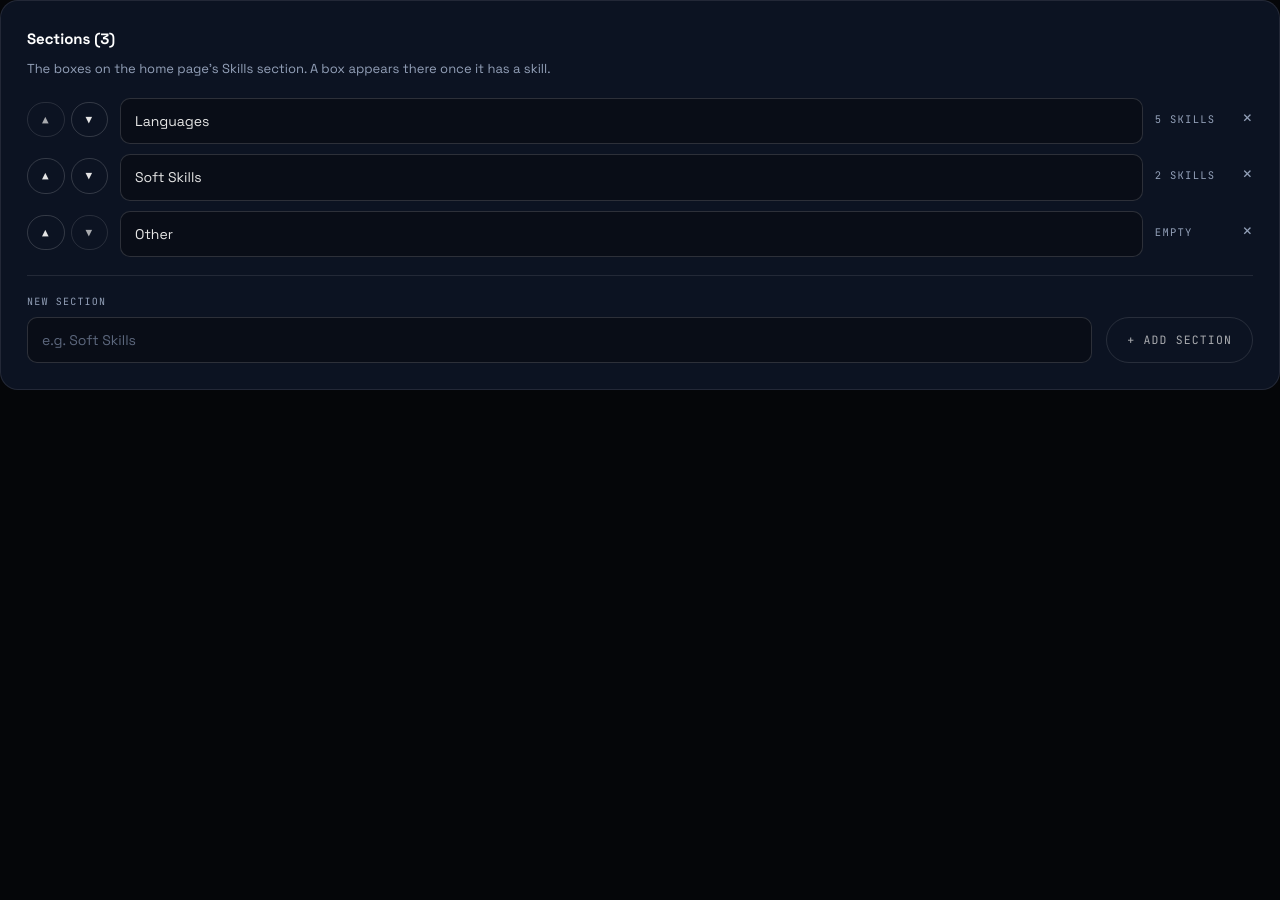
Scenario: deleting › a failed delete says so in the banner
Click the button named "Delete section Other": [1246, 231] box [1239,222,1253,240]
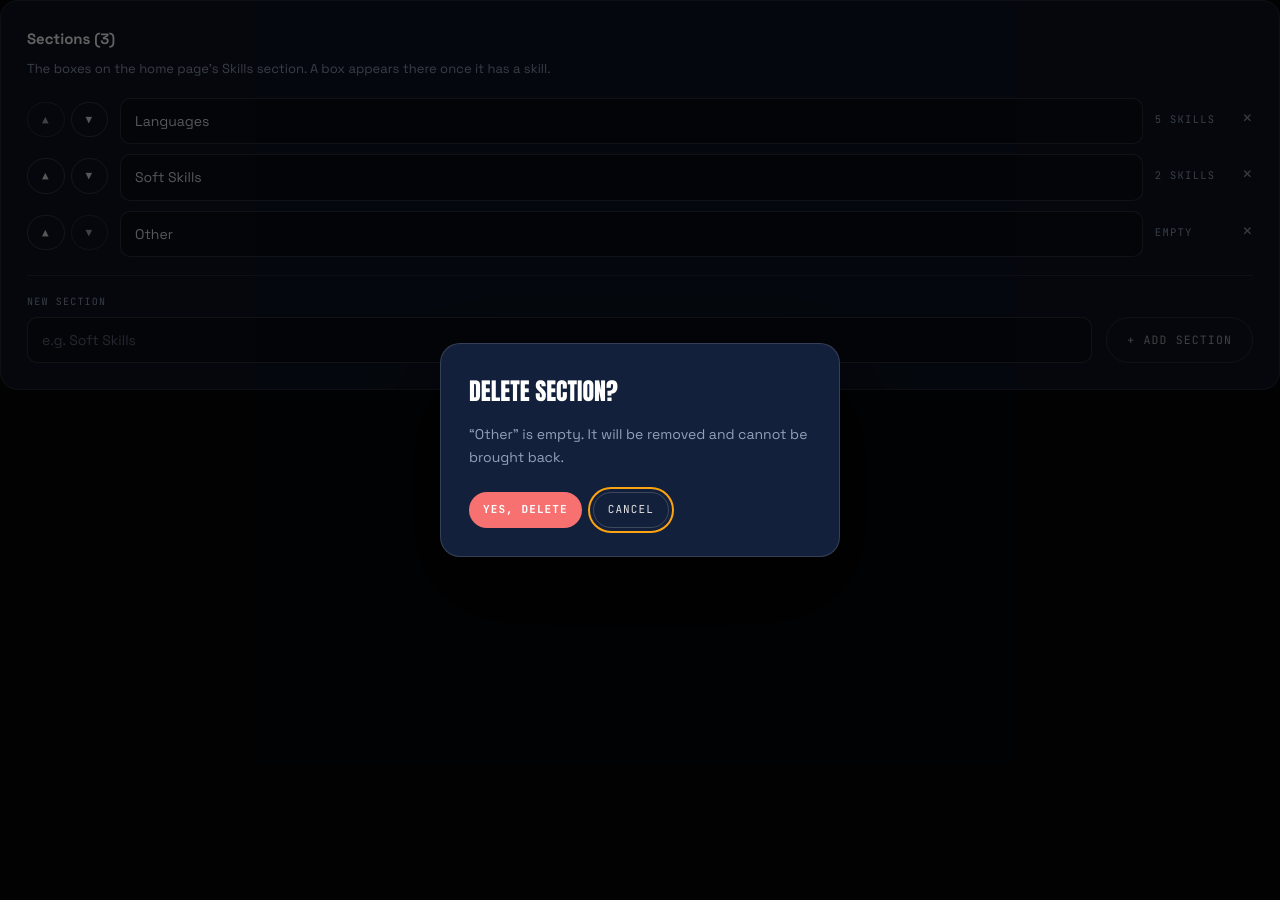
Click the button "YES, DELETE": [525, 510] box [469,492,582,528]
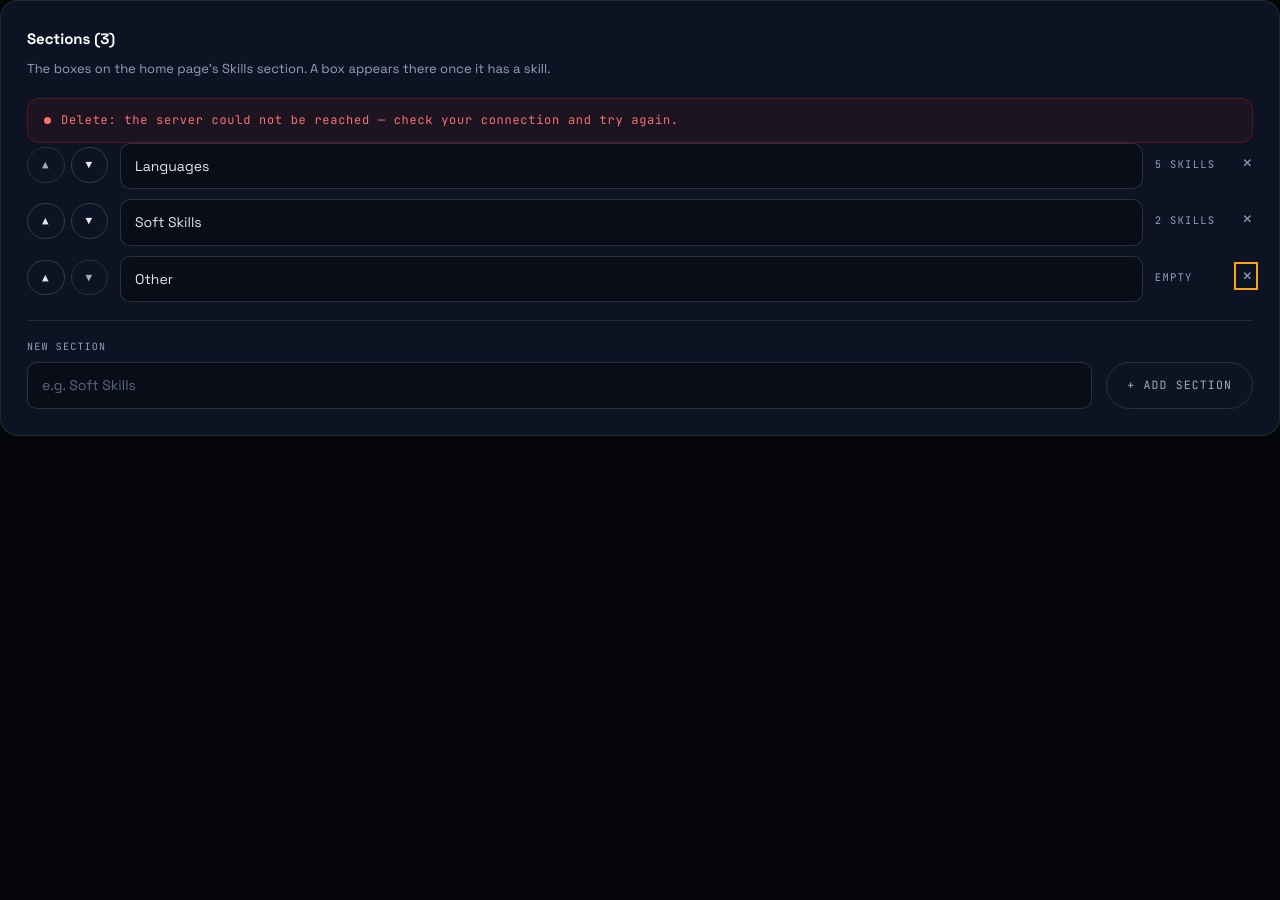
Result: the text "Delete: the server could not be reached" is shown at [61,112,679,128]
